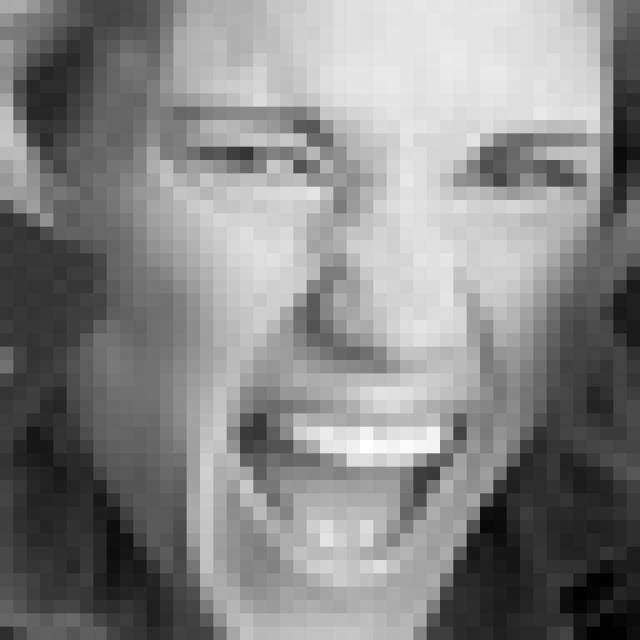angry: (157, 94, 618, 590)
